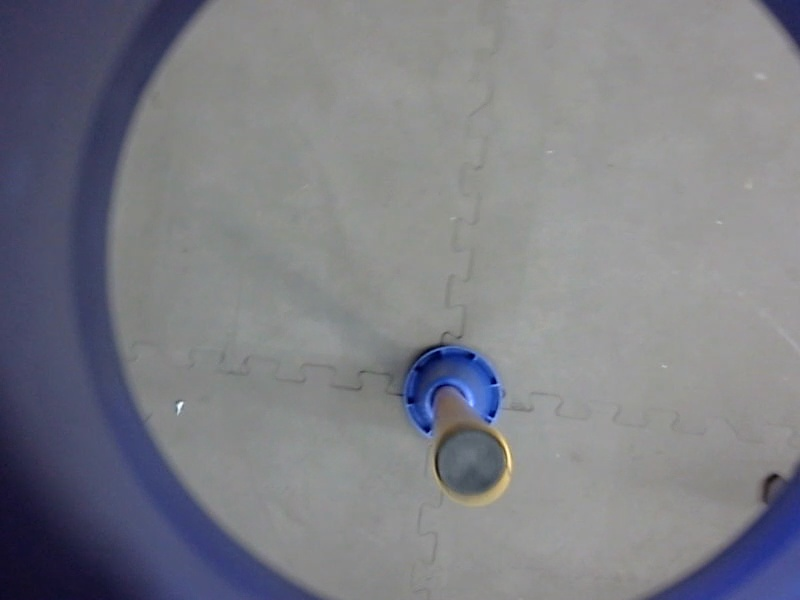tip: (422, 417, 520, 511)
